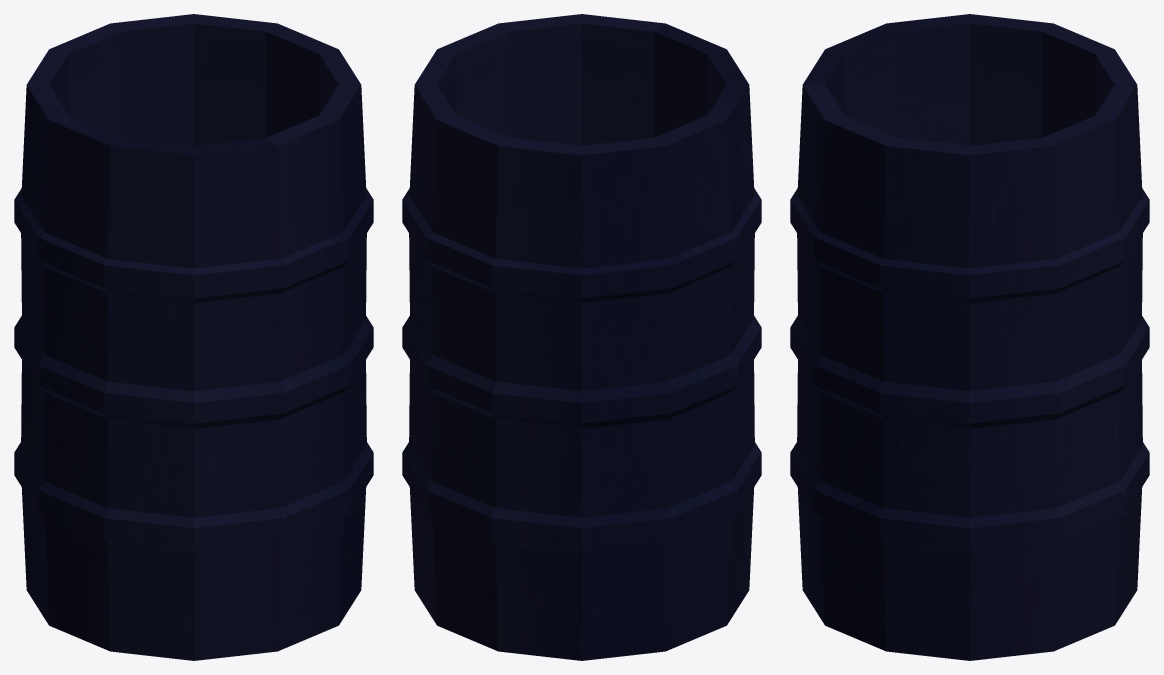
File: UnCoveredBarrel.glb
3 views of the same model, side by side, from view 1: azimuth 30°, elevation 25°; view 2: azimuth 150°, elevation 25°; view 3: azimuth 270°, elevation 25° (orthographic).
Visible parts, largest first — view 1: Barrel; view 2: Barrel; view 3: Barrel.
Boxes of the visible parts, x1,y1,x2,y2 form: Barrel: [14, 14, 373, 660]; Barrel: [402, 14, 761, 660]; Barrel: [790, 14, 1149, 660].
Bounding box in the file's own units: 0.644 × 1 × 0.644.
Materials: 1 (1 with a texture image).
